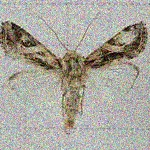Spodoptera litura: (0, 12, 148, 136)
